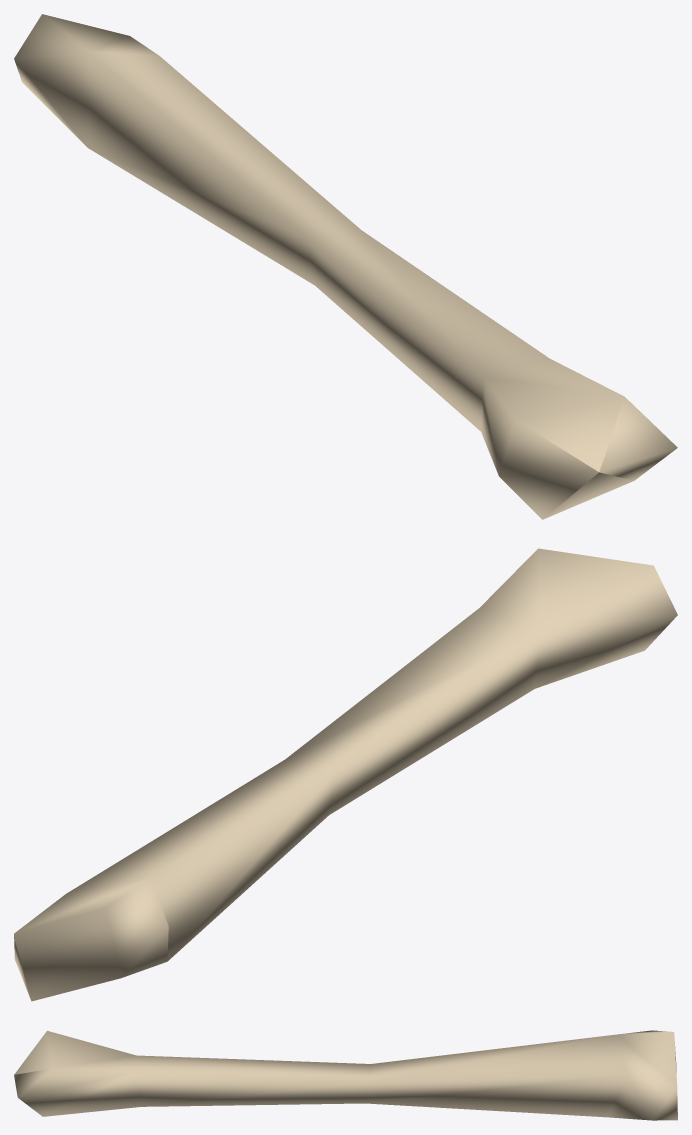
File: Prop_Sm_Bone_1_A.fbx
3 renders of one model, top to bottom at view 1: azimuth 30°, elevation 25°; view 2: azimuth 150°, elevation 25°; view 3: azimuth 270°, elevation 25°, orthographic. The views are drawn at different scales.
Parts seen in each view (by area): view 1: Bone_1_low:bone_1; view 2: Bone_1_low:bone_1; view 3: Bone_1_low:bone_1.
Part boxes in pixels (left/top/right/bottom): Bone_1_low:bone_1: left=14, top=14, right=677, bottom=519; Bone_1_low:bone_1: left=14, top=548, right=677, bottom=1001; Bone_1_low:bone_1: left=14, top=1030, right=677, bottom=1120.
Bounding box in the file's own units: 0.1042 × 0.0666 × 0.5699.
